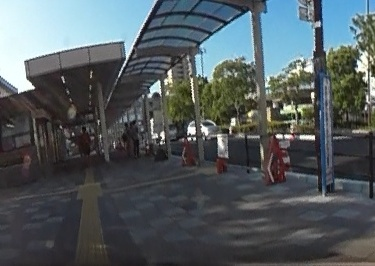person: (78, 124, 91, 163), (129, 117, 140, 155)
